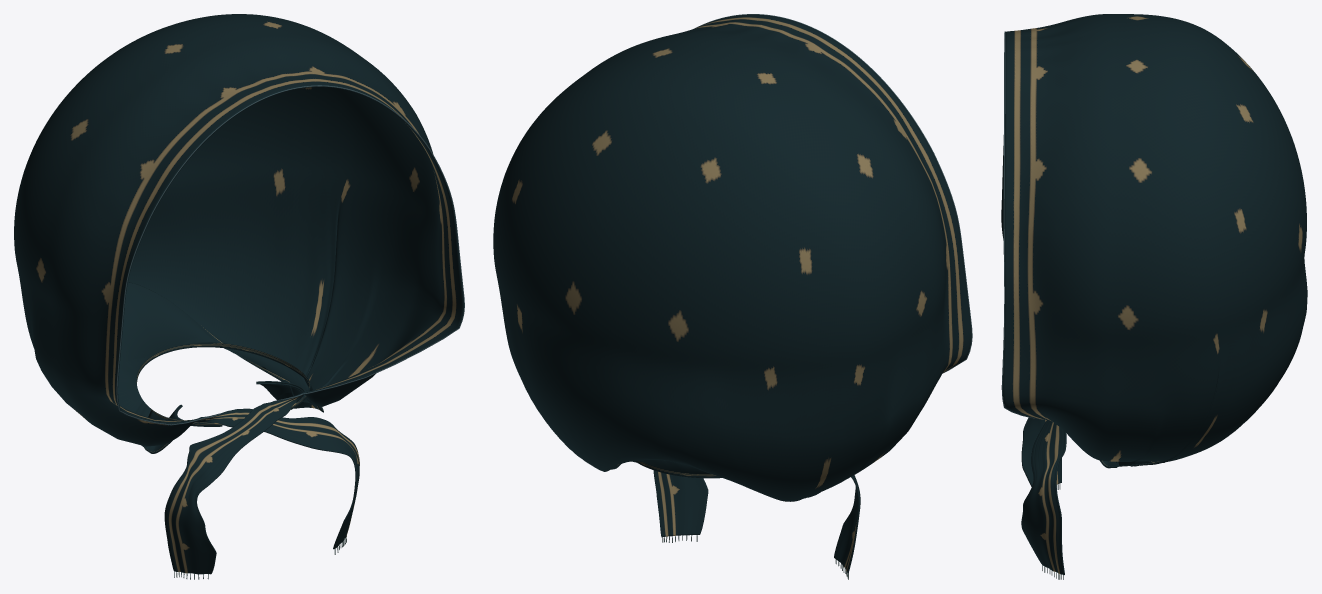
The model's file is Feminine-ponytail-tank-pashmina250-headgear.glb.
3 views of the same model, side by side, from view 1: azimuth 30°, elevation 25°; view 2: azimuth 150°, elevation 25°; view 3: azimuth 270°, elevation 25° (orthographic). The views are drawn at different scales.
Visible parts, largest first — view 1: 226 headgear / Headwear / continuous woven pashmina239, 226 headgear / Headwear / face edge239; view 2: 226 headgear / Headwear / continuous woven pashmina239, 226 headgear / Headwear / face edge239; view 3: 226 headgear / Headwear / continuous woven pashmina239, 226 headgear / Headwear / face edge239.
Part boxes in pixels (x1=…): 226 headgear / Headwear / continuous woven pashmina239: x1=14, y1=14, x2=463, y2=574; 226 headgear / Headwear / face edge239: x1=116, y1=85, x2=464, y2=425; 226 headgear / Headwear / continuous woven pashmina239: x1=493, y1=14, x2=971, y2=573; 226 headgear / Headwear / face edge239: x1=694, y1=14, x2=972, y2=373; 226 headgear / Headwear / continuous woven pashmina239: x1=1001, y1=14, x2=1307, y2=574; 226 headgear / Headwear / face edge239: x1=1001, y1=31, x2=1040, y2=419.
Bounding box in the file's own units: 1.07 × 1.38 × 0.7569.
Materials: 3 (1 with a texture image).
